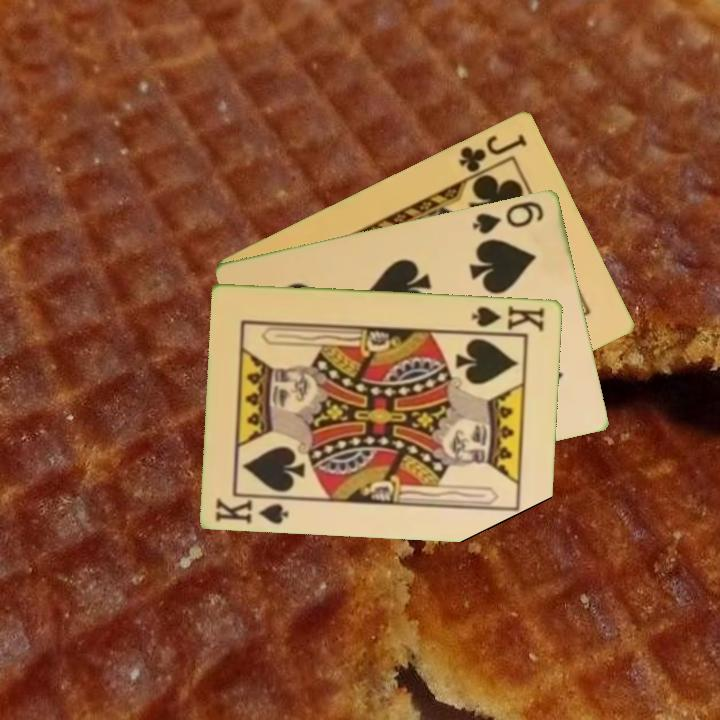6s: (469, 197, 547, 237)
Jc: (455, 129, 530, 175)
Ks: (212, 491, 295, 527), (468, 301, 548, 334)
